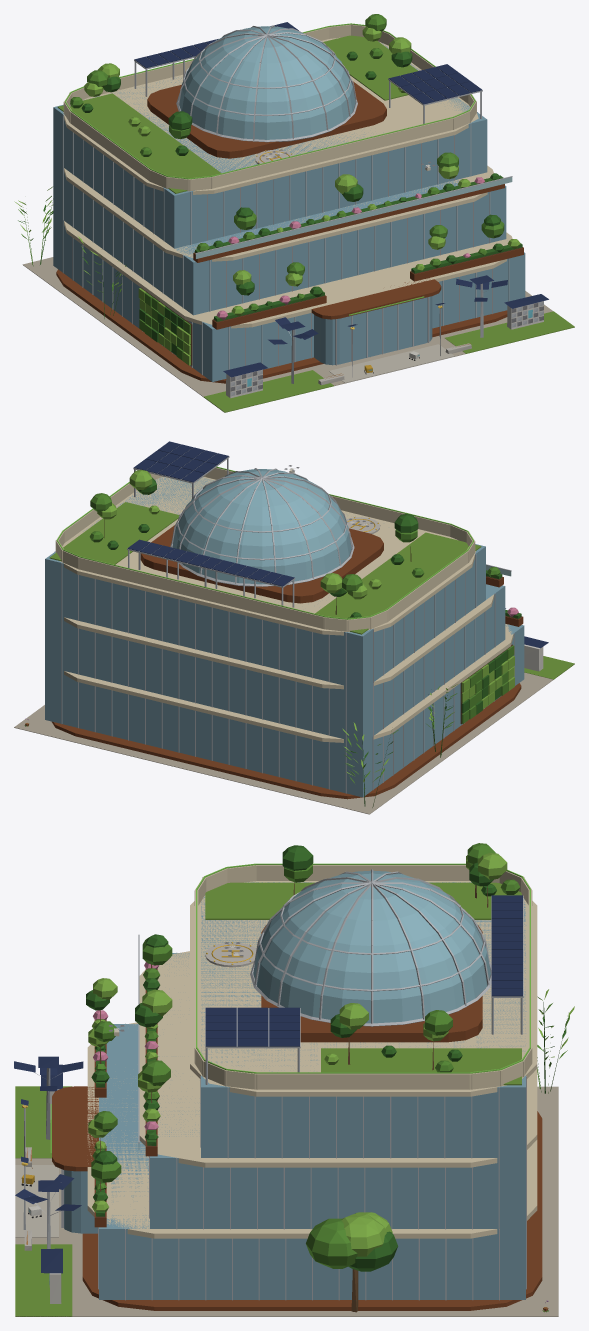
Rendered from shop_5.glb.
3 views of the same model, one above another, from view 1: azimuth 30°, elevation 25°; view 2: azimuth 150°, elevation 25°; view 3: azimuth 270°, elevation 25° (orthographic). The views are drawn at different scales.
Parts seen in each view (by area): view 1: body, windows; view 2: body, windows; view 3: body, windows.
Part boxes in pixels (bbox=[...]): body: bbox=[14, 14, 574, 412]; windows: bbox=[64, 23, 532, 386]; body: bbox=[14, 441, 574, 814]; windows: bbox=[56, 466, 474, 619]; body: bbox=[14, 843, 574, 1316]; windows: bbox=[21, 863, 530, 1284].
Size of the model in its own units: 34.82 by 20.93 by 32.96.
